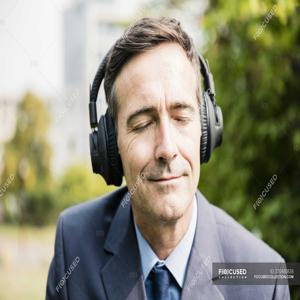Headphones: (87, 16, 223, 188)
